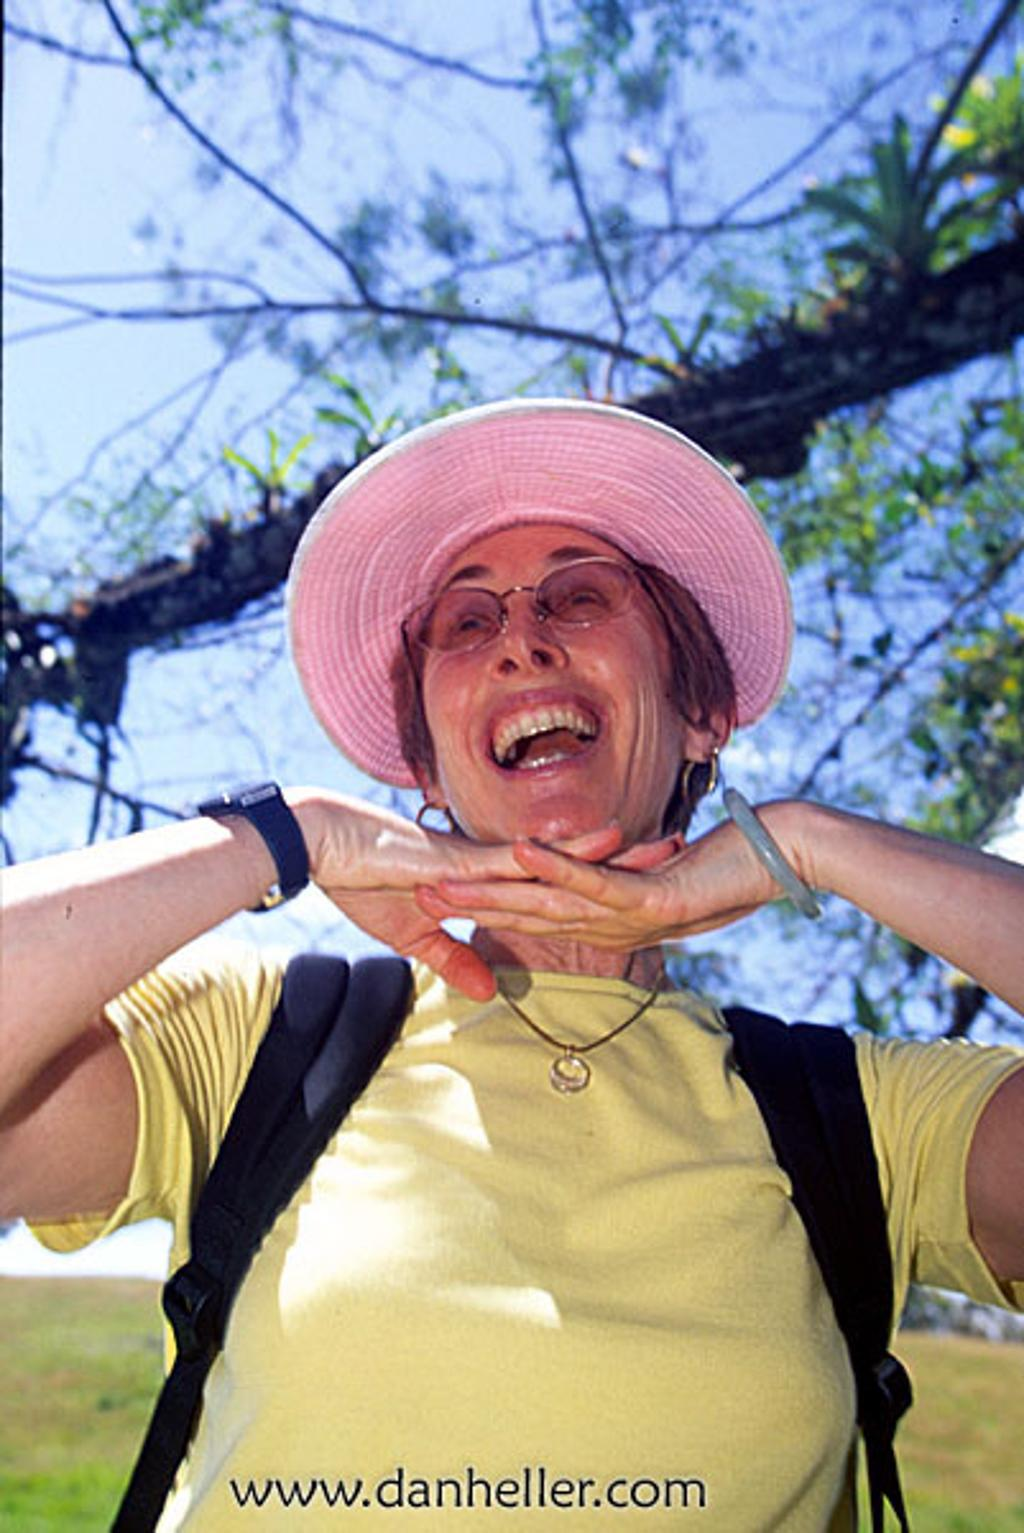face: (425, 524, 685, 844)
